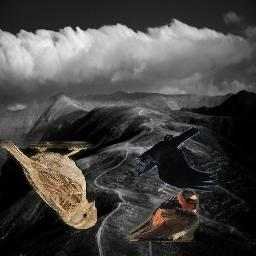Crow: (134, 127, 219, 193)
Sparrow: (1, 141, 98, 229)
Swallow: (127, 188, 200, 242)
